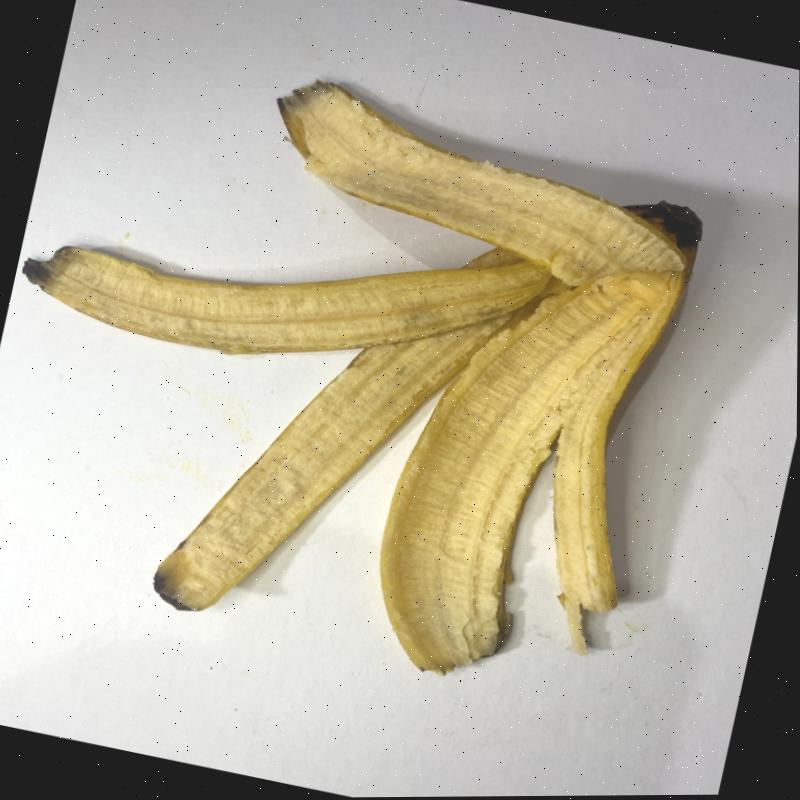fruit peels: (22, 82, 703, 678)
